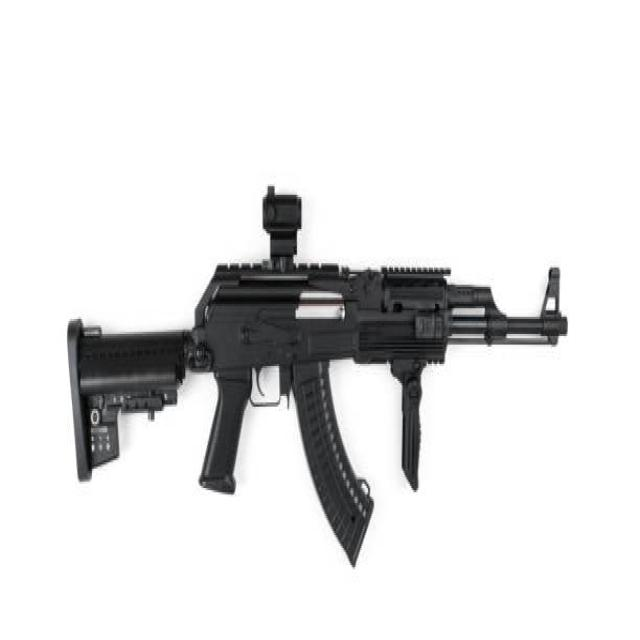rifle: (67, 189, 570, 574)
